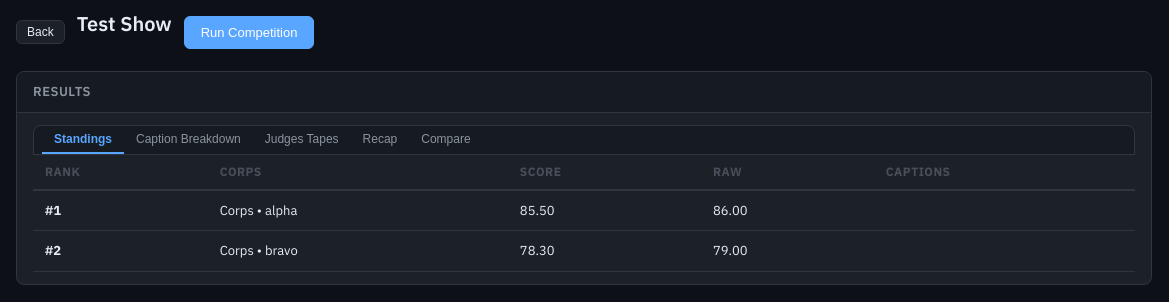
CompetitionDetail › shows caption breakdown tab
Click the button "Caption Breakdown" at point(188, 140), box [124,126,253,154]
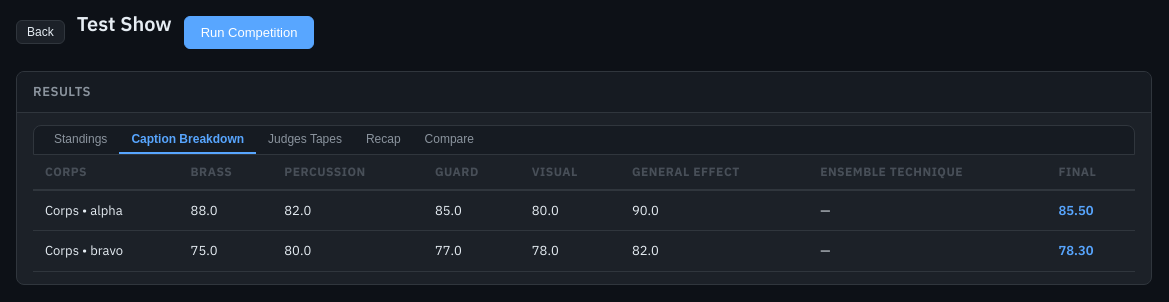
Check: the column heading "Brass" is shown, box [179,154,272,190]
